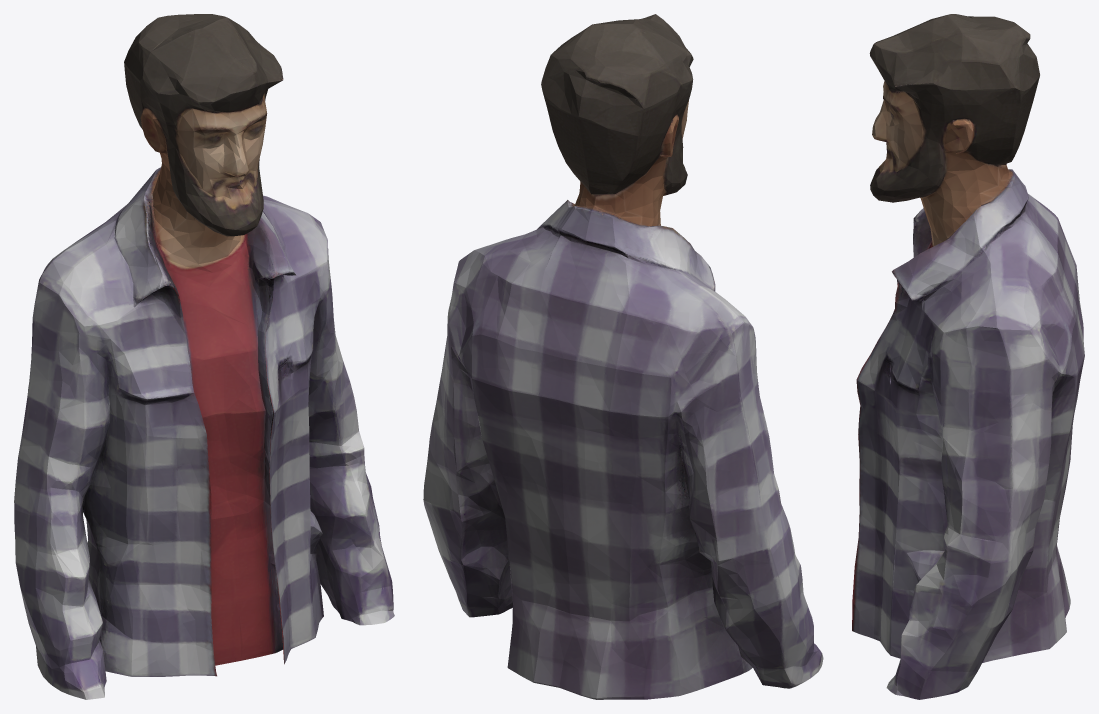
3 renders of one model, left to right at view 1: azimuth 30°, elevation 25°; view 2: azimuth 150°, elevation 25°; view 3: azimuth 270°, elevation 25°, orthographic. The views are drawn at different scales.
Parts seen in each view (by area): view 1: geometry_0; view 2: geometry_0; view 3: geometry_0.
Boxes of the visible parts, x1,y1,x2,y2 form: geometry_0: (14, 14, 394, 699); geometry_0: (423, 14, 823, 699); geometry_0: (852, 14, 1084, 699).
Bounding box in the file's own units: 0.497 × 0.8284 × 0.2917.
Materials: 1 (1 with a texture image).
